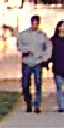person: (13, 17, 44, 106)
